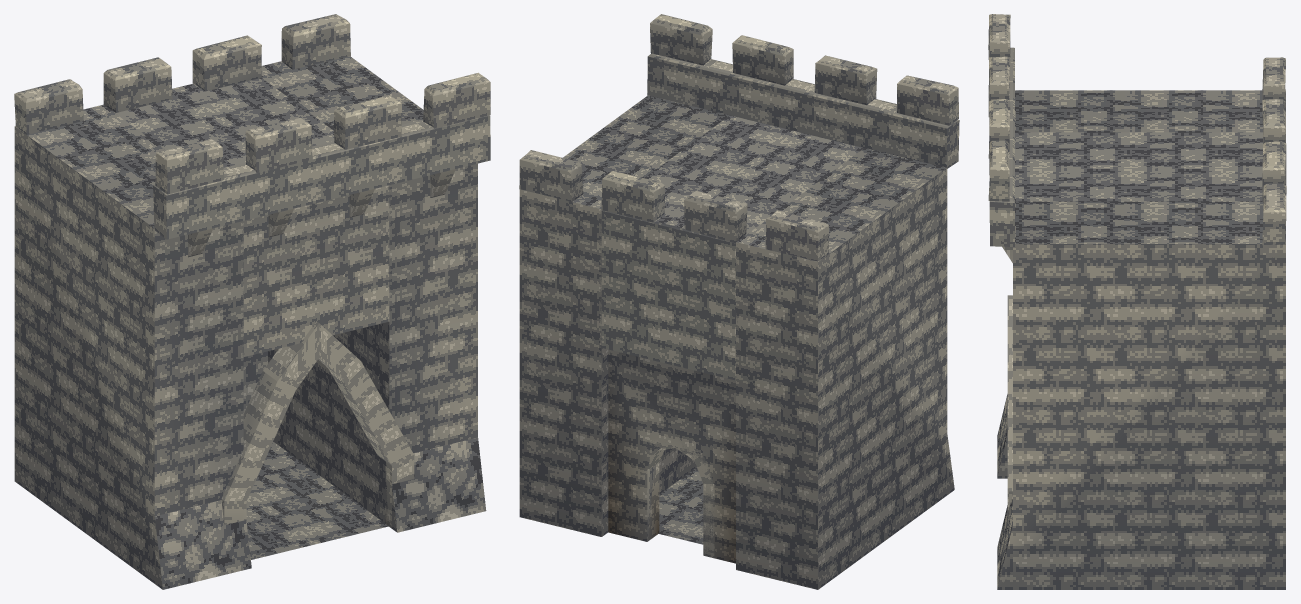
Rendered from cst.gatehouse.glb.
3 renders of one model, left to right at view 1: azimuth 30°, elevation 25°; view 2: azimuth 150°, elevation 25°; view 3: azimuth 270°, elevation 25°, orthographic. The views are drawn at different scales.
Visible parts, largest first — view 1: kit_block, kit_top, kit_detail, kit_shell_passage_floor; view 2: kit_block, kit_top, kit_shell_passage_floor, kit_detail; view 3: kit_block, kit_top, kit_detail.
Part boxes in pixels (bbox=[...]): kit_block: bbox=[14, 56, 486, 589]; kit_top: bbox=[14, 14, 490, 239]; kit_detail: bbox=[188, 169, 455, 528]; kit_shell_passage_floor: bbox=[246, 441, 388, 559]; kit_block: bbox=[519, 95, 954, 589]; kit_top: bbox=[519, 14, 959, 261]; kit_shell_passage_floor: bbox=[658, 467, 703, 544]; kit_detail: bbox=[646, 439, 714, 558]; kit_block: bbox=[997, 90, 1285, 589]; kit_top: bbox=[988, 14, 1286, 246]; kit_detail: bbox=[1002, 246, 1012, 513].
Size of the model in its own units: 8.04 by 10.3 by 6.56.
5 materials, 5 textured.
